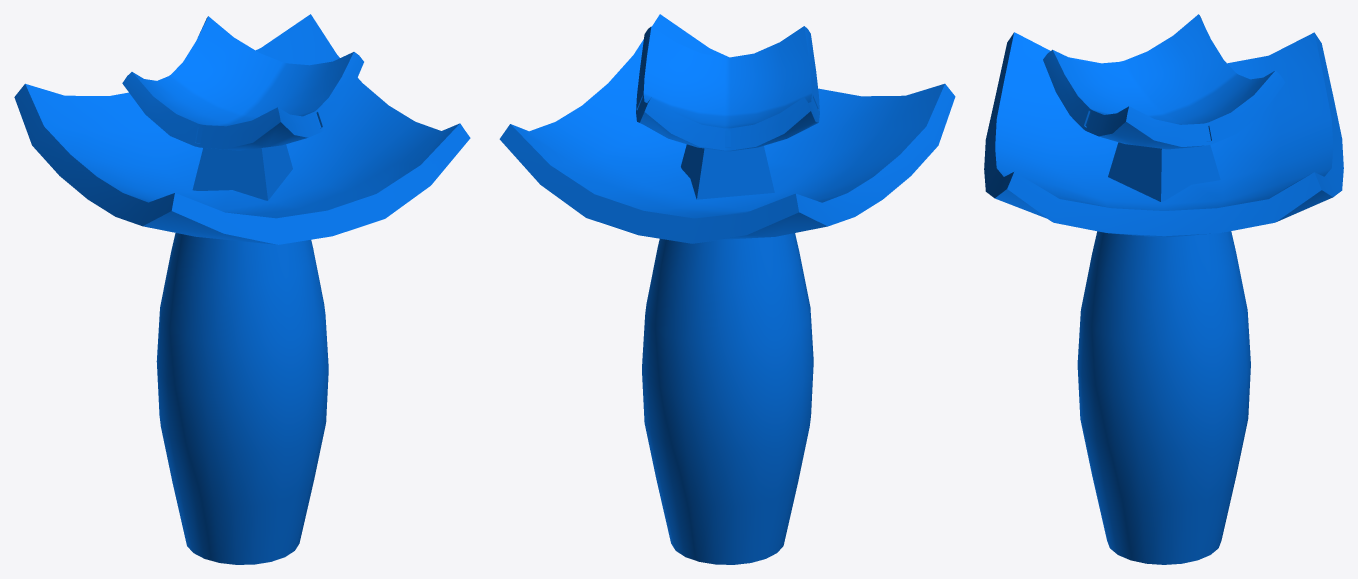
File: BirdFountain.fbx
3 views of the same model, side by side, from view 1: azimuth 30°, elevation 25°; view 2: azimuth 150°, elevation 25°; view 3: azimuth 270°, elevation 25° (orthographic).
Parts seen in each view (by area): view 1: Base_pillar_low, Lower_plate_low, Upper_plate_low, Middle_cube_low; view 2: Base_pillar_low, Lower_plate_low, Upper_plate_low, Middle_cube_low; view 3: Base_pillar_low, Lower_plate_low, Upper_plate_low, Middle_cube_low.
Boxes of the visible parts, box(x1,y1,x2,y2) form: Base_pillar_low: box(156, 233, 328, 564); Lower_plate_low: box(14, 14, 470, 244); Upper_plate_low: box(122, 16, 363, 150); Middle_cube_low: box(192, 144, 292, 200); Base_pillar_low: box(642, 233, 813, 564); Lower_plate_low: box(499, 14, 955, 243); Upper_plate_low: box(636, 26, 819, 151); Middle_cube_low: box(681, 144, 774, 199); Base_pillar_low: box(1077, 231, 1250, 564); Lower_plate_low: box(984, 32, 1343, 237); Upper_plate_low: box(1043, 14, 1285, 149); Middle_cube_low: box(1108, 142, 1220, 201).
Size of the model in its own units: 81.91 by 121 by 81.82.
